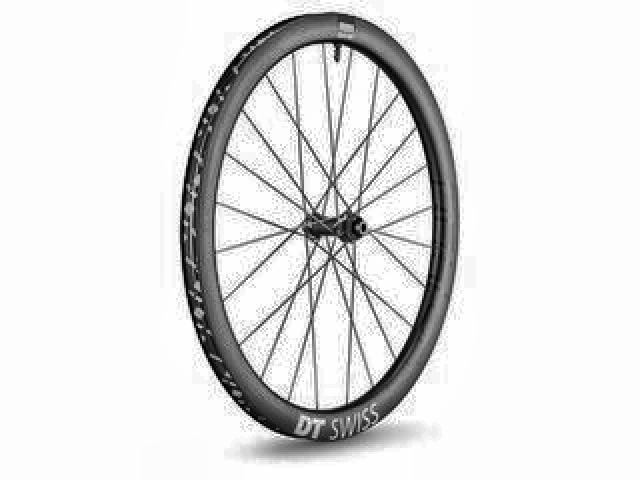wheel: (172, 9, 464, 447)
